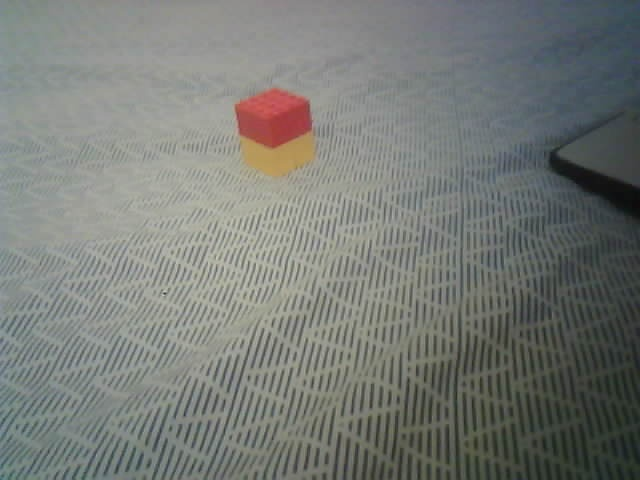lego: (233, 87, 316, 179)
